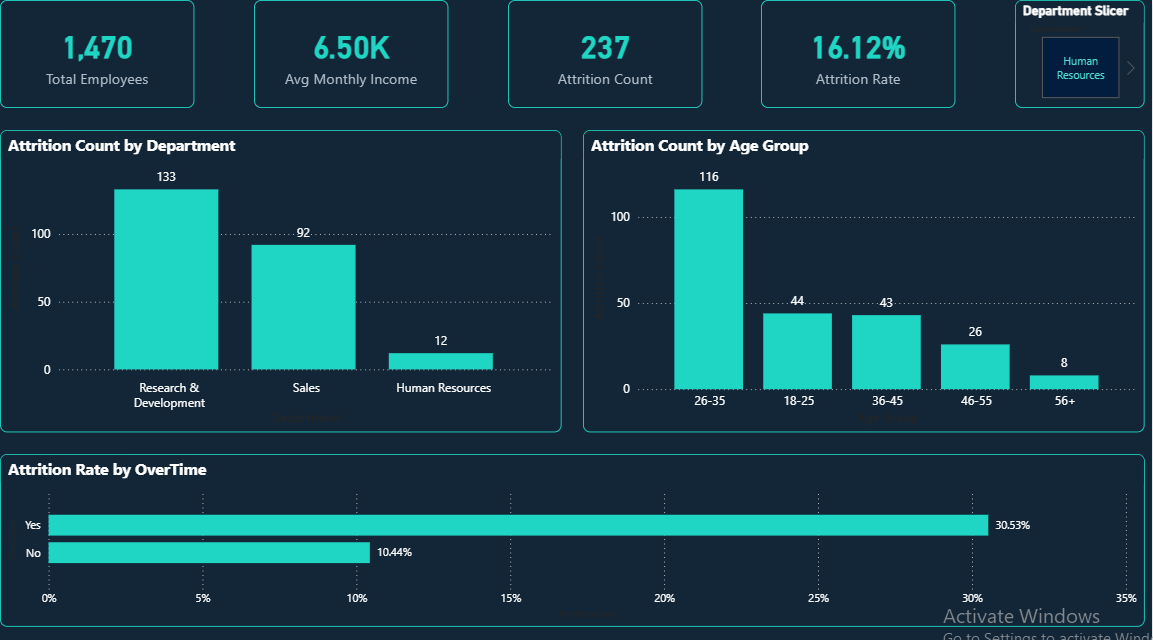

The page's visual inventory and layout, read from the dashboard file:
{"tool":"powerbi","page":{"name":"Executive Overview","canvas":[1280,720],"ordinal":0},"visuals":[{"type":"card","fields":{"Values":["_Measures.Total Employees"]},"box":[0,0,216,120],"z":4},{"type":"card","fields":{"Values":["_Measures.Attrition Count"]},"box":[564,0,216,120],"z":5},{"type":"card","fields":{"Values":["_Measures.Attrition Rate"]},"box":[846,0,216,120],"z":6},{"type":"card","fields":{"Values":["_Measures.Avg Monthly Income"]},"box":[282,0,216,120],"z":7},{"type":"clusteredColumnChart","fields":{"Category":["Dim_Department.Department"],"Y":["_Measures.Attrition Count"]},"box":[0,144,624,336],"z":8},{"type":"clusteredColumnChart","fields":{"Category":["Employees.Age Group"],"Y":["_Measures.Attrition Count"]},"box":[648,144,624,336],"z":9},{"type":"clusteredBarChart","fields":{"Category":["Employees.OverTime"],"Y":["_Measures.Attrition Rate"]},"box":[0,504,1272,192],"z":10},{"type":"slicer","title":"Department Slicer","fields":{"Values":["Dim_Department.Department"]},"box":[1128,0,144,120],"z":11}]}

Visuals, with their boxes in screenshot pixels (x1, y1, x2, y2), scaled from the page's 1280x720 canvas onto the 1153x640 screenshot:
card - _Measures.Total Employees: (0,0,195,107)
card - _Measures.Attrition Count: (508,0,703,107)
card - _Measures.Attrition Rate: (762,0,957,107)
card - _Measures.Avg Monthly Income: (254,0,449,107)
clusteredColumnChart - Dim_Department.Department x _Measures.Attrition Count: (0,128,562,427)
clusteredColumnChart - Employees.Age Group x _Measures.Attrition Count: (584,128,1146,427)
clusteredBarChart - Employees.OverTime x _Measures.Attrition Rate: (0,448,1146,619)
"Department Slicer" slicer: (1016,0,1146,107)
